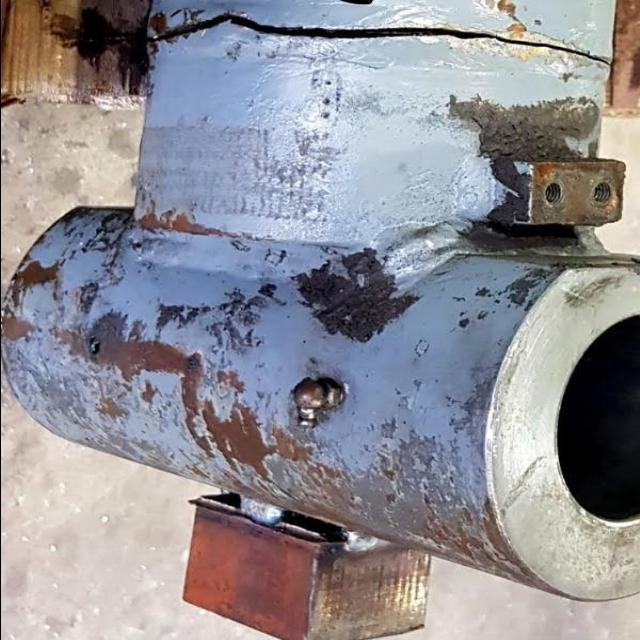Crack: (127, 10, 614, 68)
